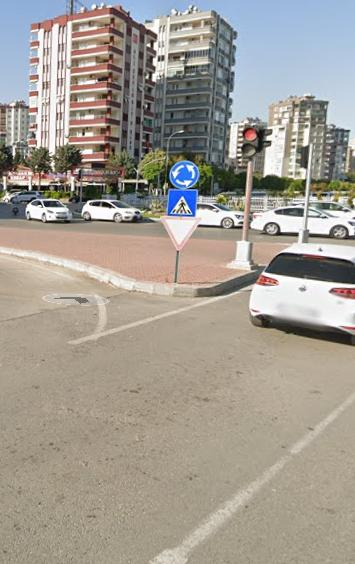crossroads: (170, 161, 199, 189)
redlight: (240, 128, 264, 160)
